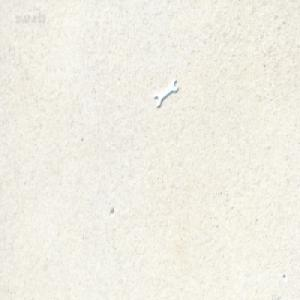Wrench: (154, 78, 178, 108)
